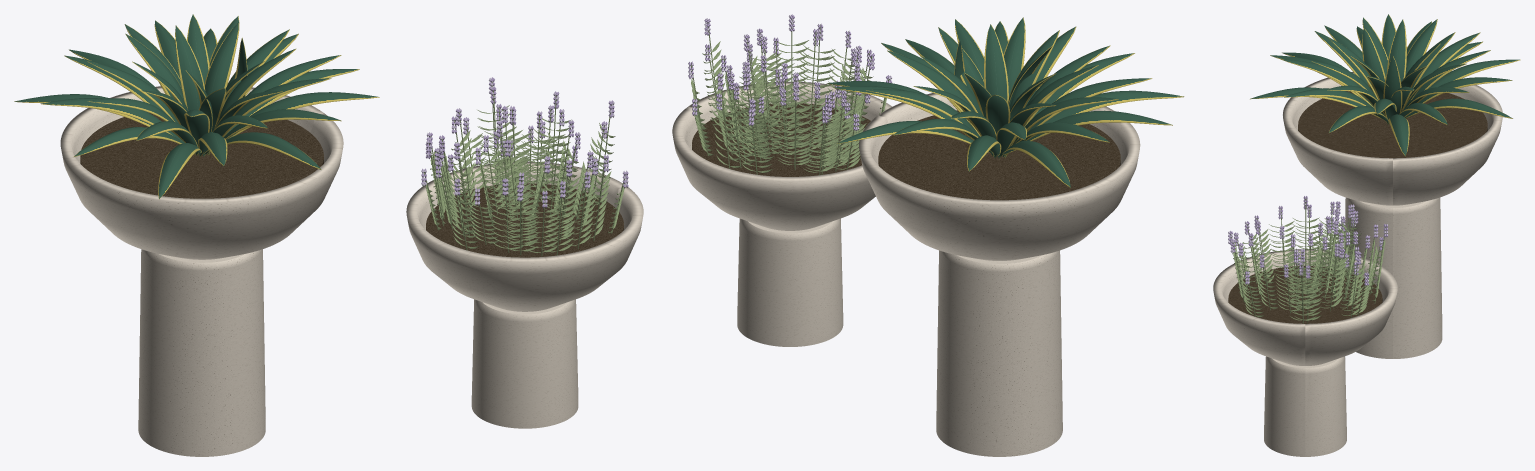
Rendered from G24_pedestal_planters_2.glb.
3 renders of one model, left to right at view 1: azimuth 30°, elevation 25°; view 2: azimuth 150°, elevation 25°; view 3: azimuth 270°, elevation 25°, orthographic. The views are drawn at different scales.
Parts seen in each view (by area): view 1: high_agave_planter / Shared warm ivory fine granular stone, low_lavender_planter / Shared warm ivory fine granular stone, high_agave_planter / Green agave leaves with yellow margins, low_lavender_planter / Fine grey-green lavender foliage, high_agave_planter / Exposed dark planting substrate, low_lavender_planter / Exposed dark planting substrate, low_lavender_planter / Pale lilac small flower petals, low_lavender_planter / Lavender pale lilac flower tips; view 2: high_agave_planter / Shared warm ivory fine granular stone, low_lavender_planter / Shared warm ivory fine granular stone, high_agave_planter / Green agave leaves with yellow margins, low_lavender_planter / Fine grey-green lavender foliage, high_agave_planter / Exposed dark planting substrate, low_lavender_planter / Exposed dark planting substrate, low_lavender_planter / Pale lilac small flower petals, low_lavender_planter / Lavender pale lilac flower tips; view 3: high_agave_planter / Shared warm ivory fine granular stone, low_lavender_planter / Shared warm ivory fine granular stone, high_agave_planter / Green agave leaves with yellow margins, low_lavender_planter / Fine grey-green lavender foliage, high_agave_planter / Exposed dark planting substrate, low_lavender_planter / Exposed dark planting substrate, low_lavender_planter / Pale lilac small flower petals, low_lavender_planter / Lavender pale lilac flower tips.
Part boxes in pixels (<box>): high_agave_planter / Shared warm ivory fine granular stone: <box>60,86,343,456</box>; low_lavender_planter / Shared warm ivory fine granular stone: <box>406,161,643,428</box>; high_agave_planter / Green agave leaves with yellow margins: <box>14,14,379,199</box>; low_lavender_planter / Fine grey-green lavender foliage: <box>424,81,625,256</box>; high_agave_planter / Exposed dark planting substrate: <box>80,112,323,198</box>; low_lavender_planter / Exposed dark planting substrate: <box>426,183,623,257</box>; low_lavender_planter / Pale lilac small flower petals: <box>421,77,628,208</box>; low_lavender_planter / Lavender pale lilac flower tips: <box>421,78,628,205</box>; high_agave_planter / Shared warm ivory fine granular stone: <box>859,93,1140,456</box>; low_lavender_planter / Shared warm ivory fine granular stone: <box>672,82,892,346</box>; high_agave_planter / Green agave leaves with yellow margins: <box>826,17,1184,188</box>; low_lavender_planter / Fine grey-green lavender foliage: <box>691,19,888,175</box>; high_agave_planter / Exposed dark planting substrate: <box>878,110,1120,200</box>; low_lavender_planter / Exposed dark planting substrate: <box>692,103,870,176</box>; low_lavender_planter / Pale lilac small flower petals: <box>688,14,891,131</box>; low_lavender_planter / Lavender pale lilac flower tips: <box>688,15,891,130</box>; high_agave_planter / Shared warm ivory fine granular stone: <box>1283,72,1502,358</box>; low_lavender_planter / Shared warm ivory fine granular stone: <box>1213,249,1397,456</box>; high_agave_planter / Green agave leaves with yellow margins: <box>1250,14,1520,156</box>; low_lavender_planter / Fine grey-green lavender foliage: <box>1231,199,1385,323</box>; high_agave_planter / Exposed dark planting substrate: <box>1298,91,1487,158</box>; low_lavender_planter / Exposed dark planting substrate: <box>1228,266,1382,323</box>; low_lavender_planter / Pale lilac small flower petals: <box>1228,196,1388,285</box>; low_lavender_planter / Lavender pale lilac flower tips: <box>1228,197,1387,284</box>.
Bounding box in the file's own units: 1.45 × 1.01 × 0.9499.
6 materials, 3 textured.
